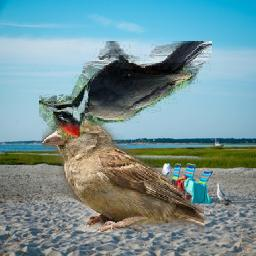Sparrow: (42, 118, 204, 233)
Woodpecker: (40, 42, 213, 139)
